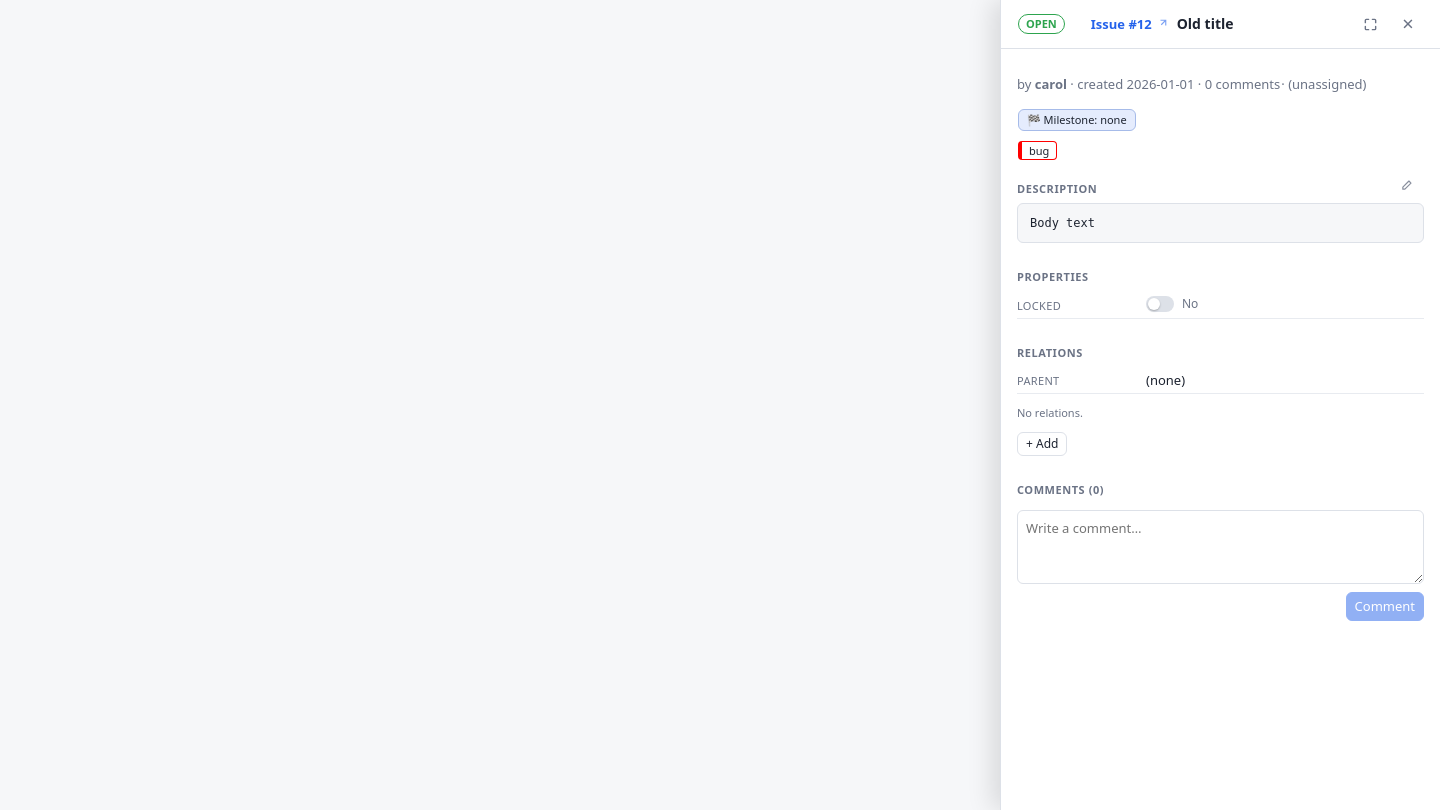
Test: the labels popover › ticking a label and closing with Done saves the whole list
This screenshot has width=1440, height=810.
Later steps or results of the test are not shown.
Click the button "bug" at point(1041, 150), box [1012,139,1070,162]
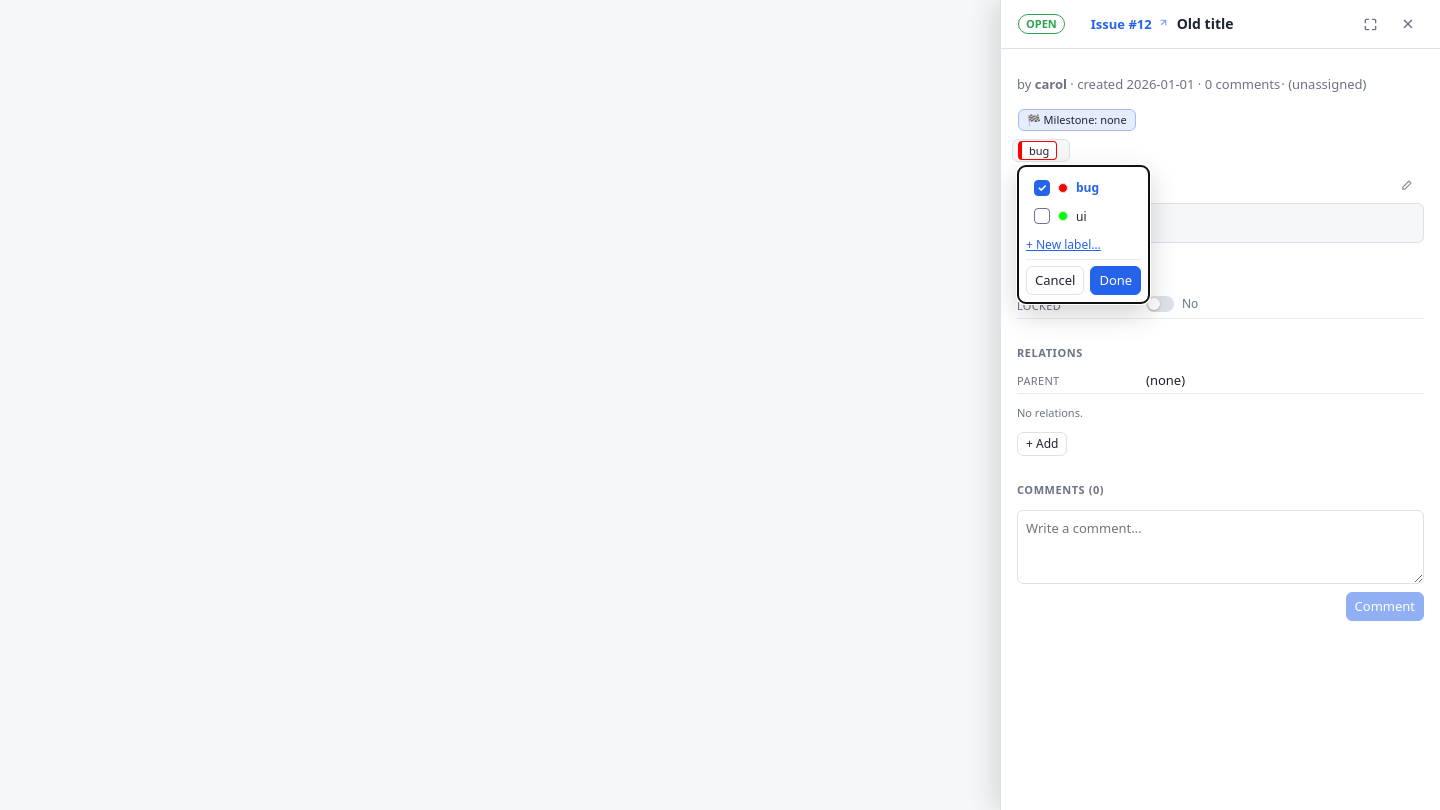
Now the dialog is shown, box [1017,165,1150,304]
